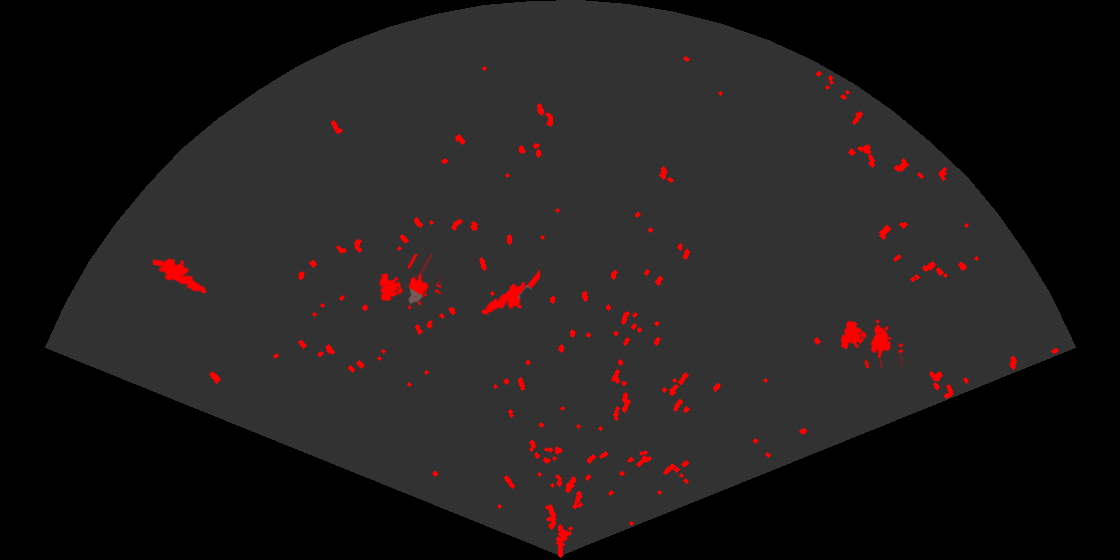cage: (377, 254, 441, 311), (839, 317, 903, 368)
frogman: (480, 269, 540, 317), (153, 256, 209, 295)
